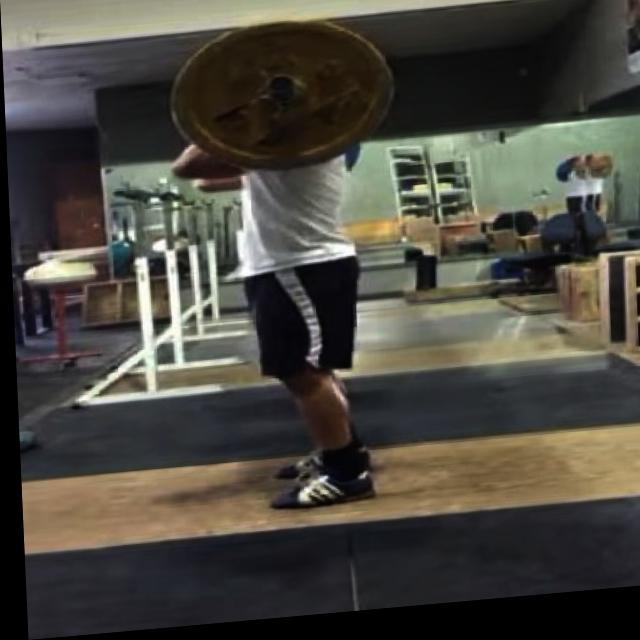barbell: (165, 12, 395, 187)
